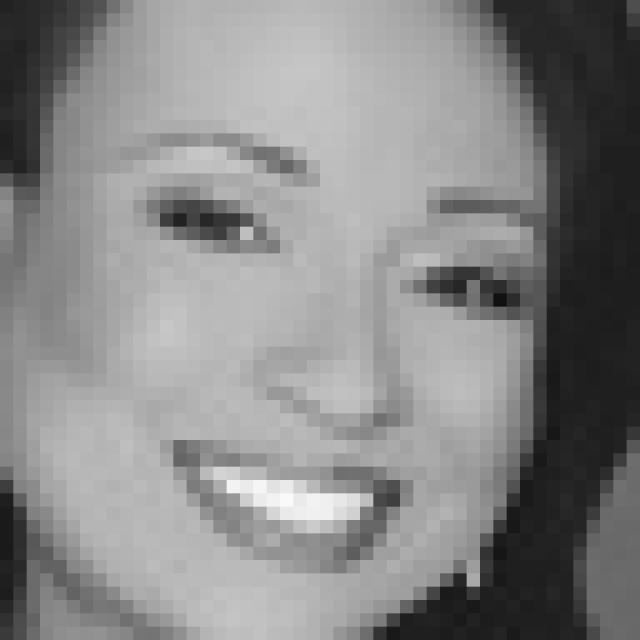happy: (96, 115, 546, 586)
